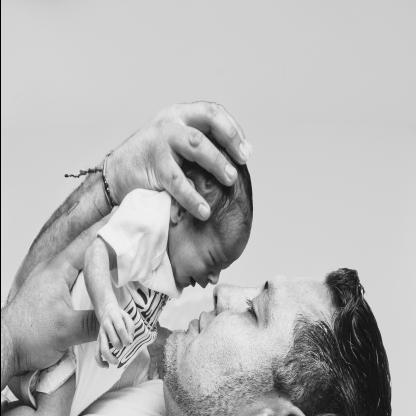Eye: (242, 298, 262, 328), (205, 249, 217, 268)
Mouth: (186, 306, 206, 338), (188, 275, 204, 293)
Nose: (211, 280, 249, 322), (206, 271, 219, 287)
